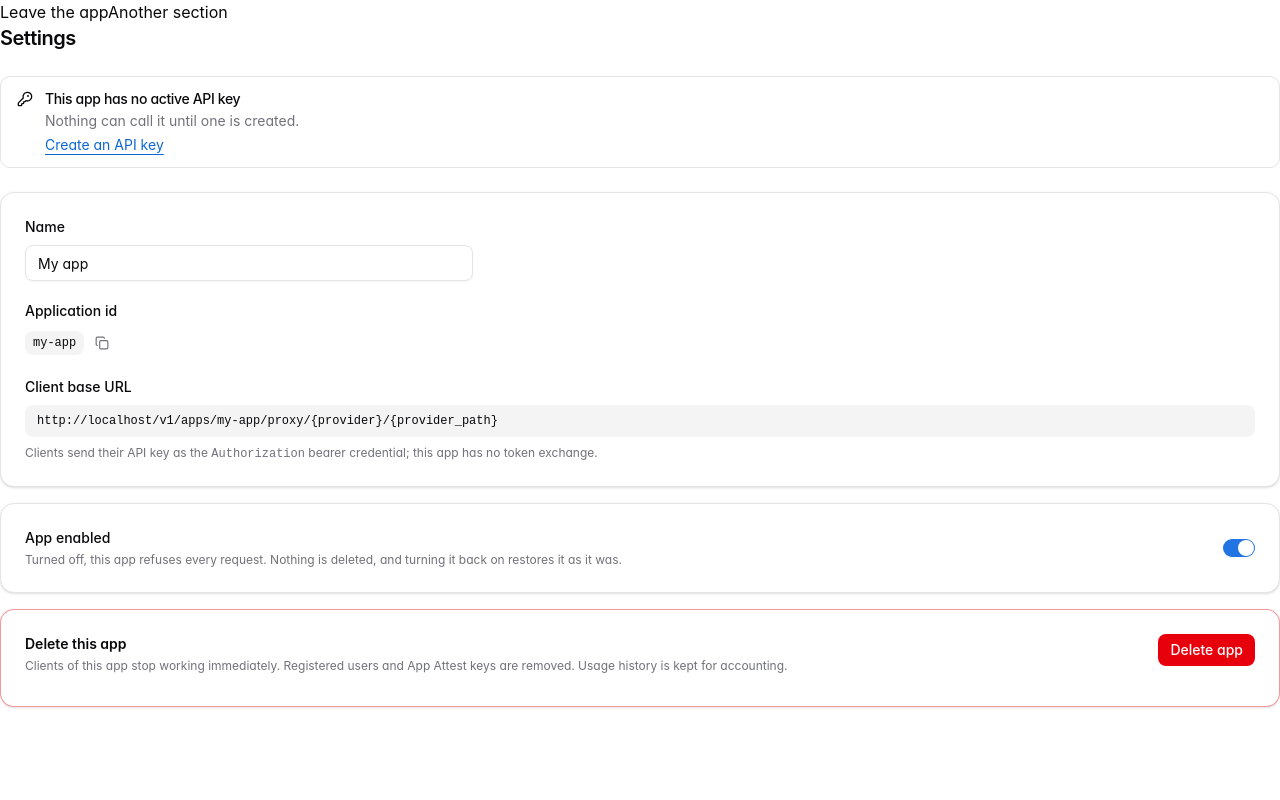
Test case: leaving with unsaved changes › lets the operator move between the app's own sections, which share the draft
What coordinates should you click on to do the following:
click the switch named "app enabled"
I would click on:
 (1239, 548)
Its box is [1223,539,1255,557].
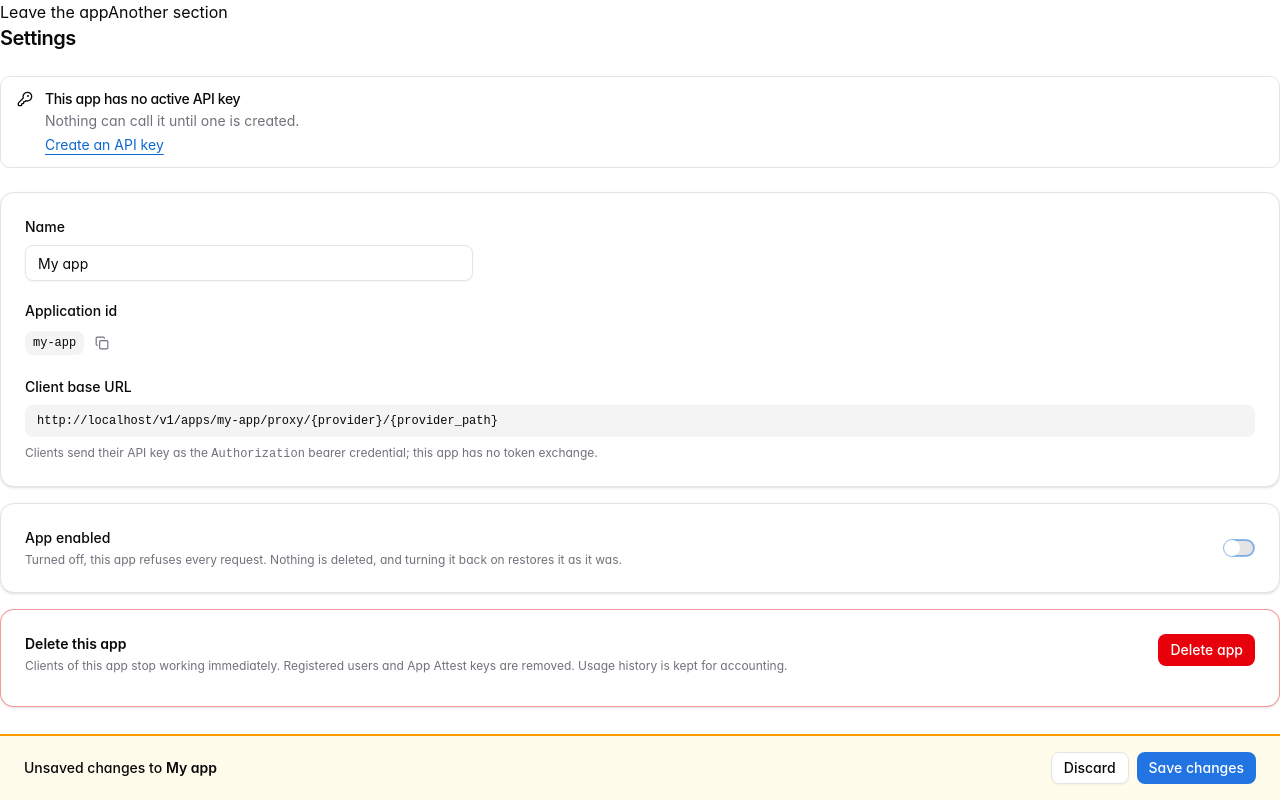
Now the text "Unsaved changes to My app" is shown, box [24,758,217,778]
What coordinates should you click on to do the following:
click the link "Another section"
I would click on:
 (168, 12)
Its box is [108,2,228,22].
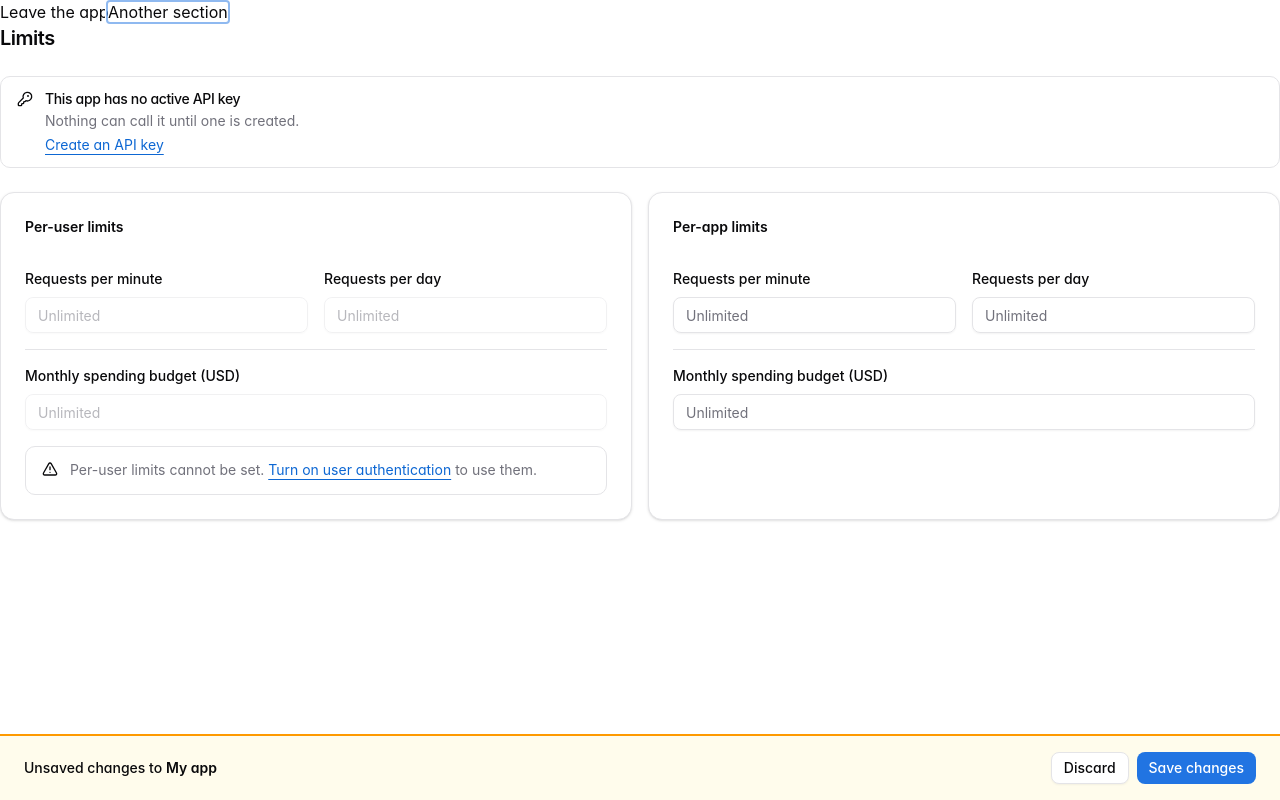
Now the text "Unsaved changes to My app" is shown, box [24,758,217,778]
Now the heading "Limits" is shown, box [0,26,55,50]
